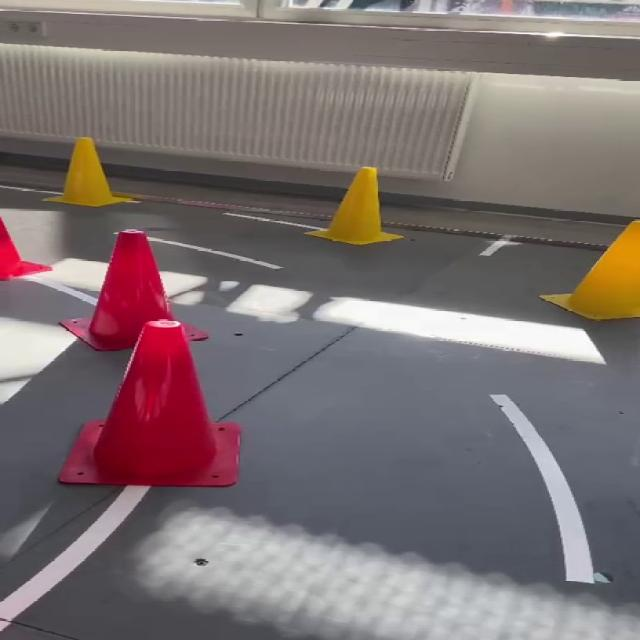Cone-red: (95, 320, 215, 485), (61, 230, 174, 351), (59, 421, 239, 486), (0, 216, 50, 279)
Cones-yellow: (539, 219, 639, 320), (306, 167, 401, 245), (47, 138, 132, 206)
